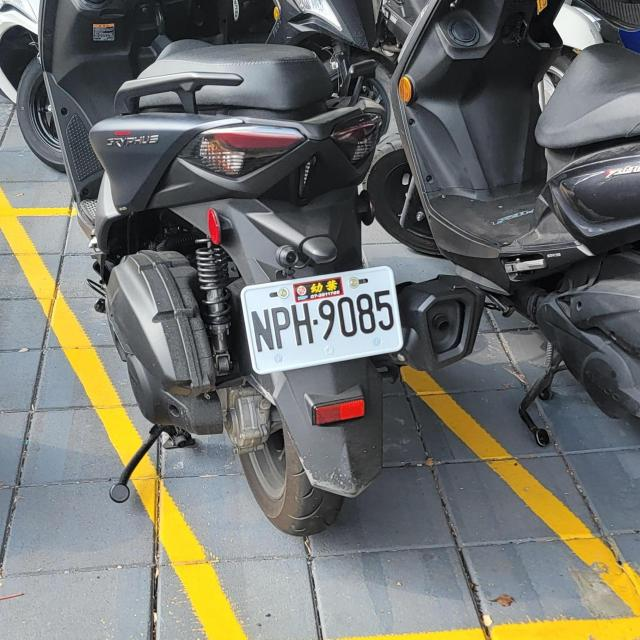W: (237, 263, 405, 376)
